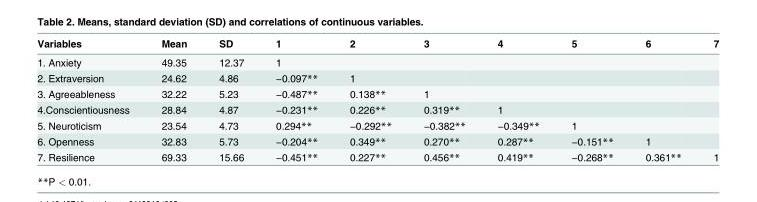table: (36, 36, 718, 162)
table column: (36, 36, 144, 162), (259, 36, 333, 162), (406, 36, 480, 162), (480, 36, 554, 162), (554, 36, 628, 162), (333, 36, 406, 162), (628, 36, 696, 162), (144, 36, 202, 162), (202, 36, 259, 162), (696, 36, 718, 162)
table column header: (36, 36, 718, 52)
table row: (36, 52, 718, 69), (36, 36, 718, 52), (36, 69, 718, 85), (36, 85, 718, 101), (36, 101, 718, 117), (36, 117, 718, 133), (36, 133, 718, 148), (36, 148, 718, 162)
